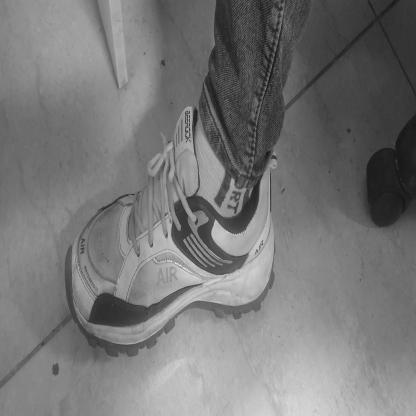ankle: (231, 219, 237, 232)
heel: (270, 241, 275, 256)
pinky: (79, 236, 85, 245)
right_foot: (66, 147, 277, 356)
toe: (95, 309, 102, 321)
